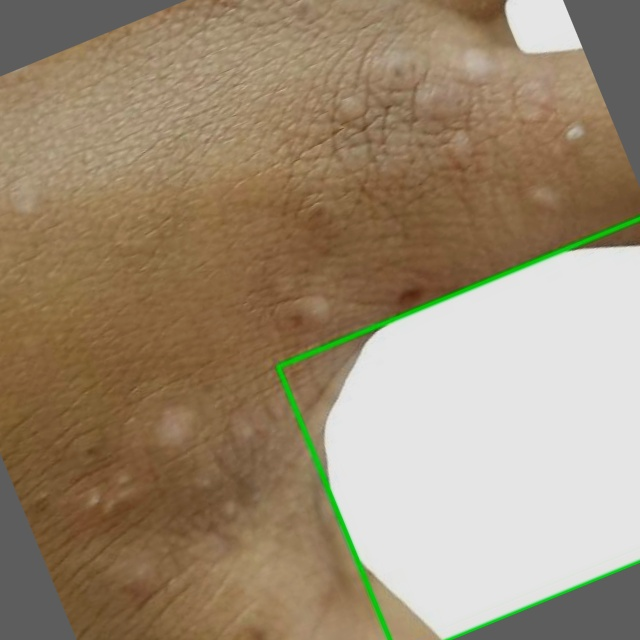Scabies: (278, 218, 639, 639)
